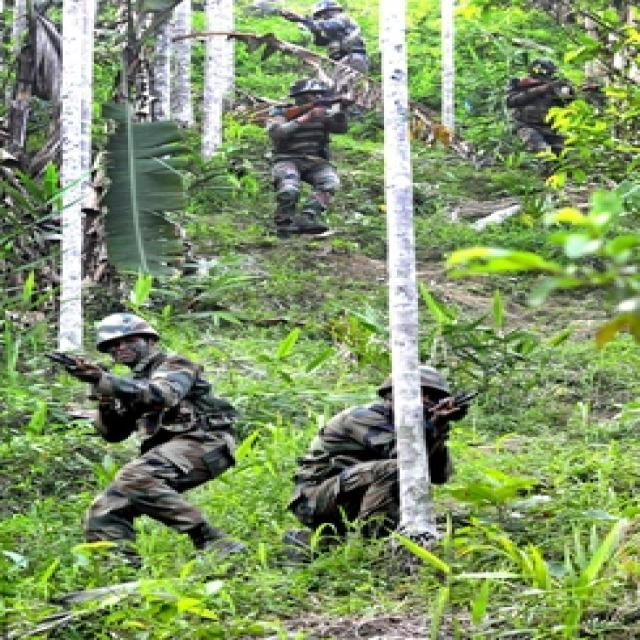Forest: (2, 2, 640, 640)
Militant: (64, 295, 260, 575), (288, 356, 480, 552), (244, 62, 348, 257), (272, 0, 411, 115), (498, 49, 587, 188)
